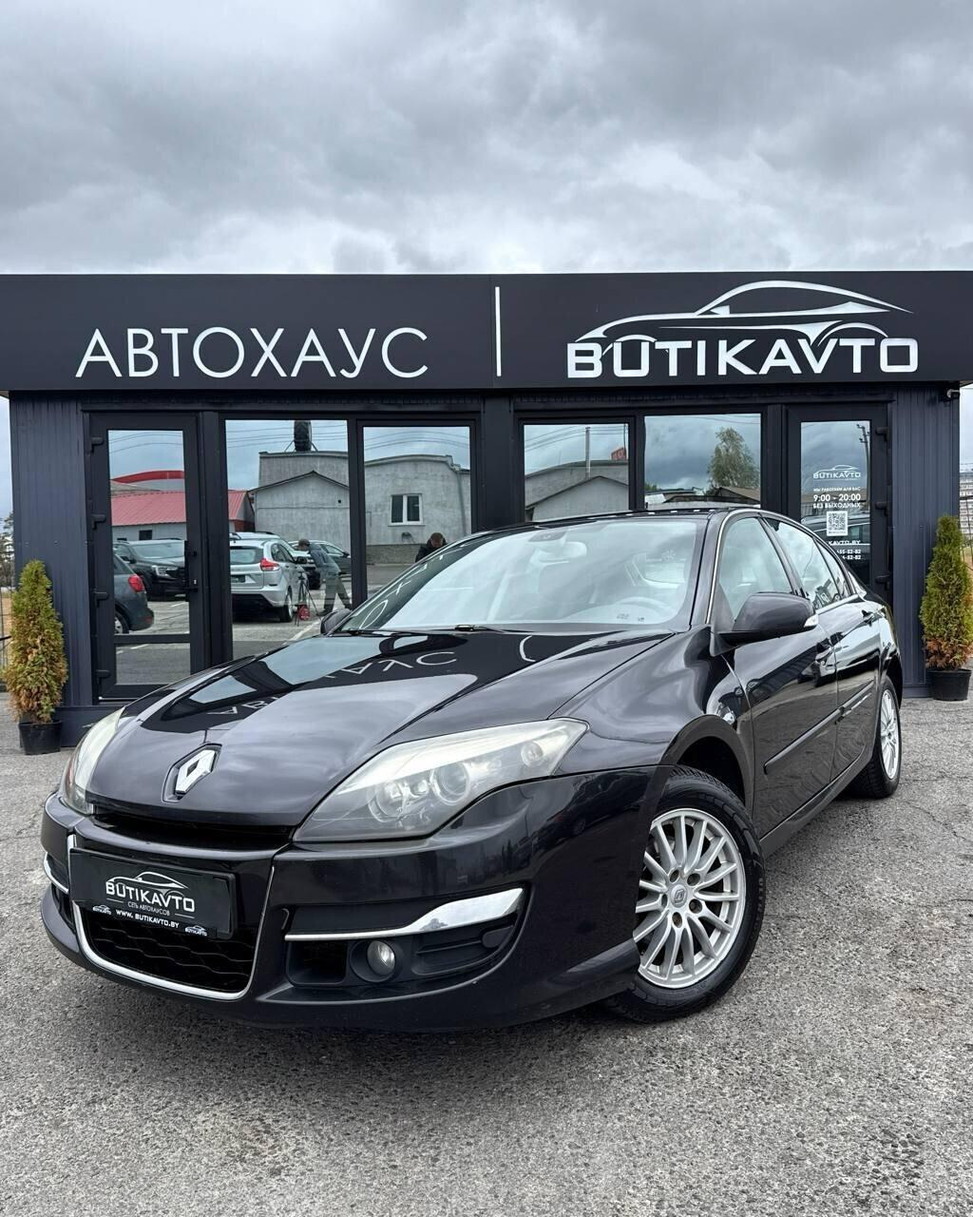Laguna_2010-2015: (46, 501, 904, 1051)
